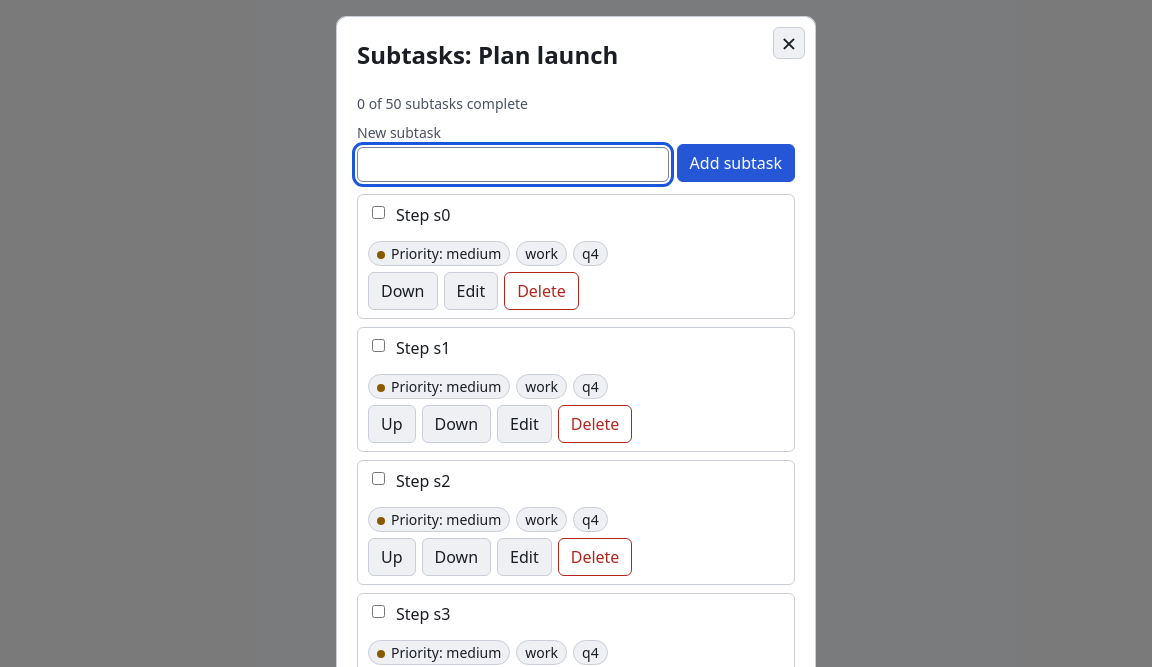
Test: SubtasksDialog adding subtasks › refuses a 51st subtask and says that 50 is the limit
Type "One too many" into the field labelled "New subtask" at x=513, y=164, box top-left (357, 147), bottom-right (669, 182)
Then press Enter
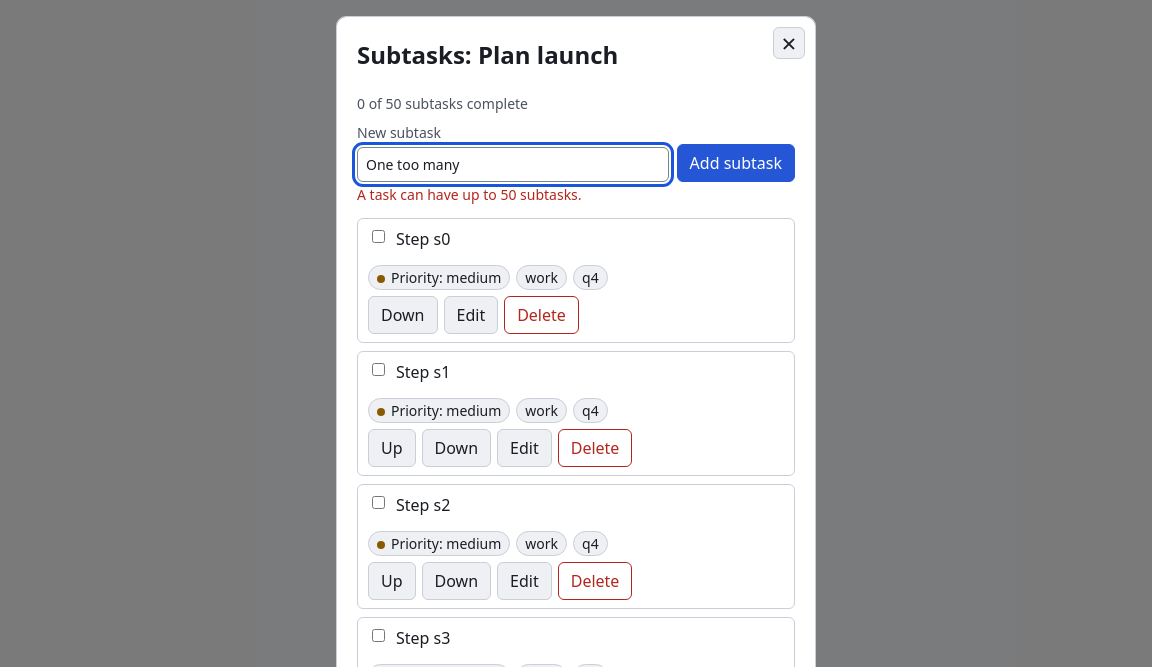
Expected: the text "A task can have up to 50 subtasks." is shown, top-left (357, 185), bottom-right (582, 204)
